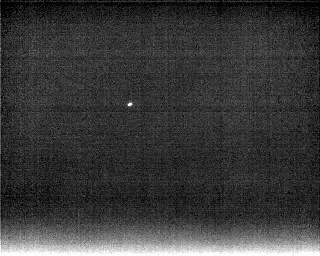BIRD: (126, 100, 134, 109)
